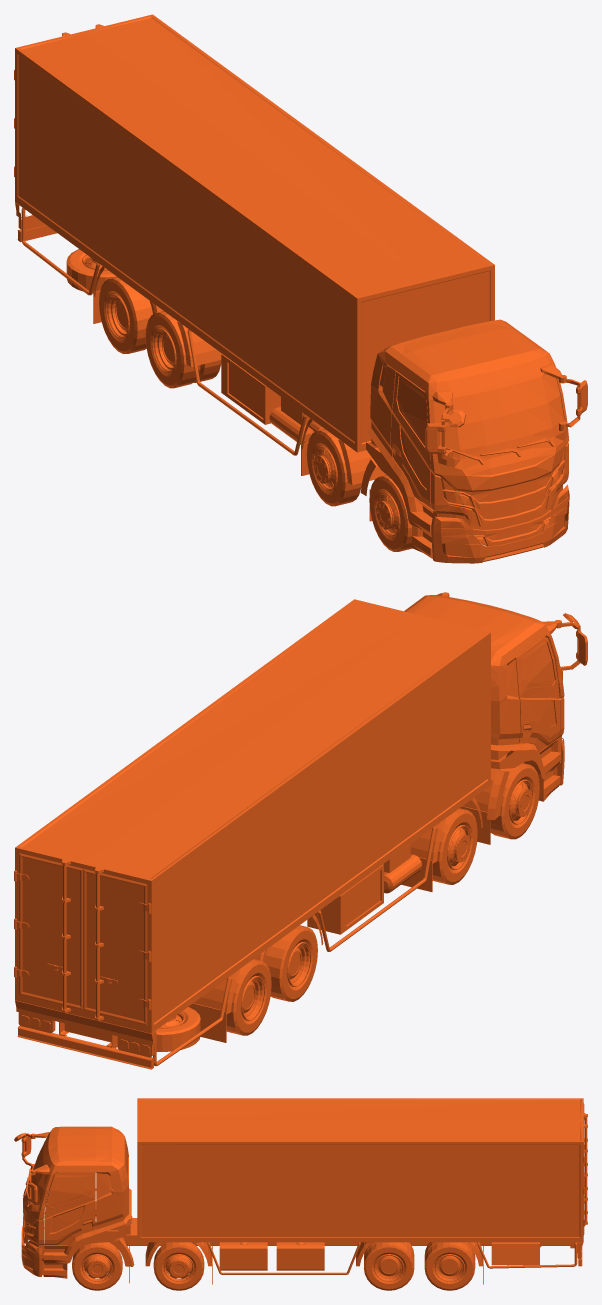
File: truck_1.glb
The picture shows the model from 3 angles, top to bottom: view 1: azimuth 30°, elevation 25°; view 2: azimuth 150°, elevation 25°; view 3: azimuth 270°, elevation 25°; orthographic projection. The views are drawn at different scales.
Parts seen in each view (by area): view 1: Truck_body_Truck_body.L, Truck_head_Truck_head.L, wheels_Circle, Truck_door.R, Truck_Toolbox1, Truck_backmirror.L, Truck_Brakesys, wheel_Circle.001, Truck_backmirror.R; view 2: Truck_body_Truck_body.L, Truck_head_Truck_head.L, wheels_Circle, Truck_door.R, Truck_Toolbox1, wheel_Circle.001, Truck_Brakesys, Truck_backmirror.L; view 3: Truck_body_Truck_body.L, Truck_head_Truck_head.L, wheels_Circle, Truck_door.L, Truck_Fueltank02, Truck_Fueltank01, Truck_Toolbox, Truck_backmirror.L, Truck_backmirror.R.
Boxes of the visible parts, x1,y1,x2,y2 form: Truck_body_Truck_body.L: [14, 14, 494, 484]; Truck_head_Truck_head.L: [360, 319, 569, 563]; wheels_Circle: [99, 277, 412, 551]; Truck_door.R: [391, 371, 432, 509]; Truck_Toolbox1: [221, 354, 280, 424]; Truck_backmirror.L: [425, 390, 465, 459]; Truck_Brakesys: [269, 397, 324, 444]; wheel_Circle.001: [66, 249, 116, 293]; Truck_backmirror.R: [540, 363, 587, 431]; Truck_body_Truck_body.L: [14, 599, 490, 1069]; Truck_head_Truck_head.L: [404, 595, 564, 844]; wheels_Circle: [226, 763, 539, 1035]; Truck_door.R: [515, 637, 560, 751]; Truck_Toolbox1: [307, 864, 383, 934]; wheel_Circle.001: [156, 1007, 200, 1051]; Truck_Brakesys: [383, 844, 422, 893]; Truck_backmirror.L: [542, 613, 587, 671]; Truck_body_Truck_body.L: [123, 1098, 587, 1284]; Truck_head_Truck_head.L: [21, 1126, 134, 1283]; wheels_Circle: [72, 1202, 475, 1290]; Truck_door.L: [44, 1172, 95, 1244]; Truck_Fueltank02: [276, 1242, 324, 1270]; Truck_Fueltank01: [219, 1242, 267, 1270]; Truck_Toolbox: [491, 1242, 539, 1265]; Truck_backmirror.L: [14, 1132, 49, 1169]; Truck_backmirror.R: [28, 1164, 49, 1204].
Size of the model in its own units: 1.99 by 2.6 by 9.07.
